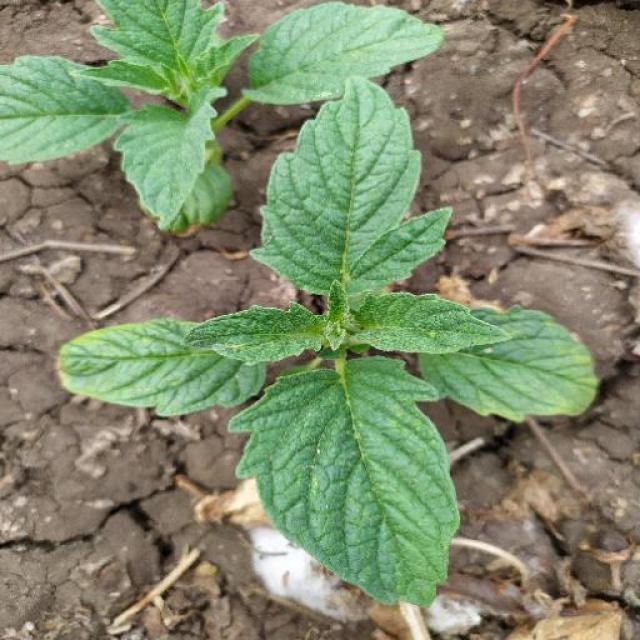crop: (54, 83, 604, 602), (1, 1, 450, 218)
